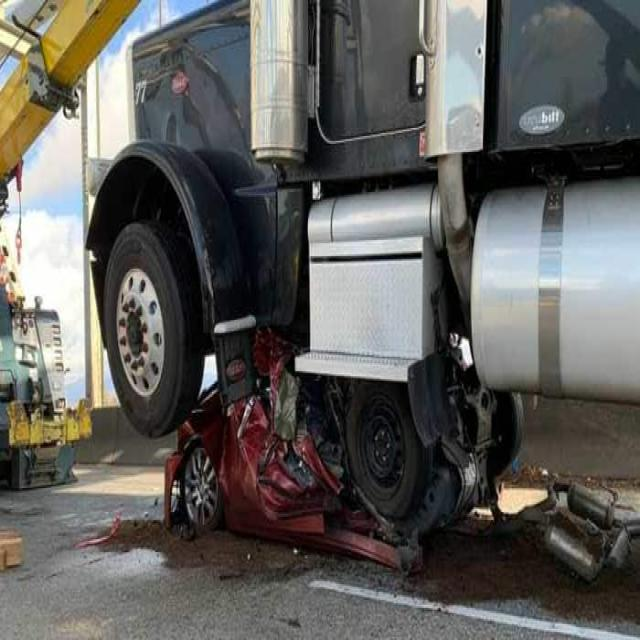accident: (165, 319, 522, 570)
